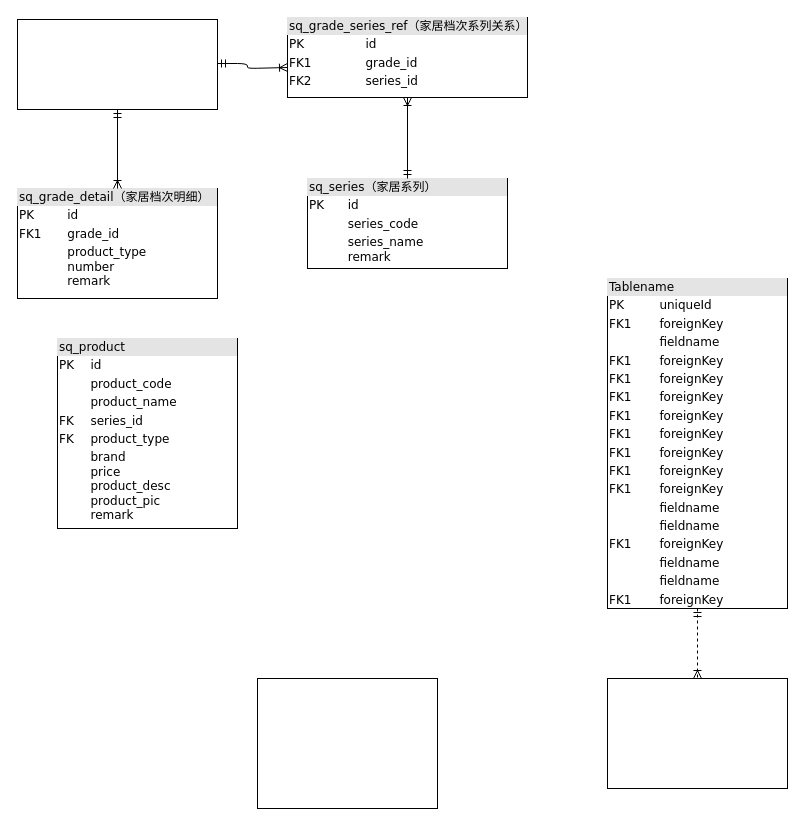
Image size: 805x826. Some labels were removed from this diagram. Each missing label, with the centre of its shape:
sq_grade（家居档次） PK id grade_code grade_name remark: the point at 117,64
Tablename PK uniqueId FK1 foreignKey fieldname fieldname fieldname fieldname: the point at 347,743
Tablename PK uniqueId FK1 foreignKey fieldname fieldname FK1 foreignKey: the point at 697,733
